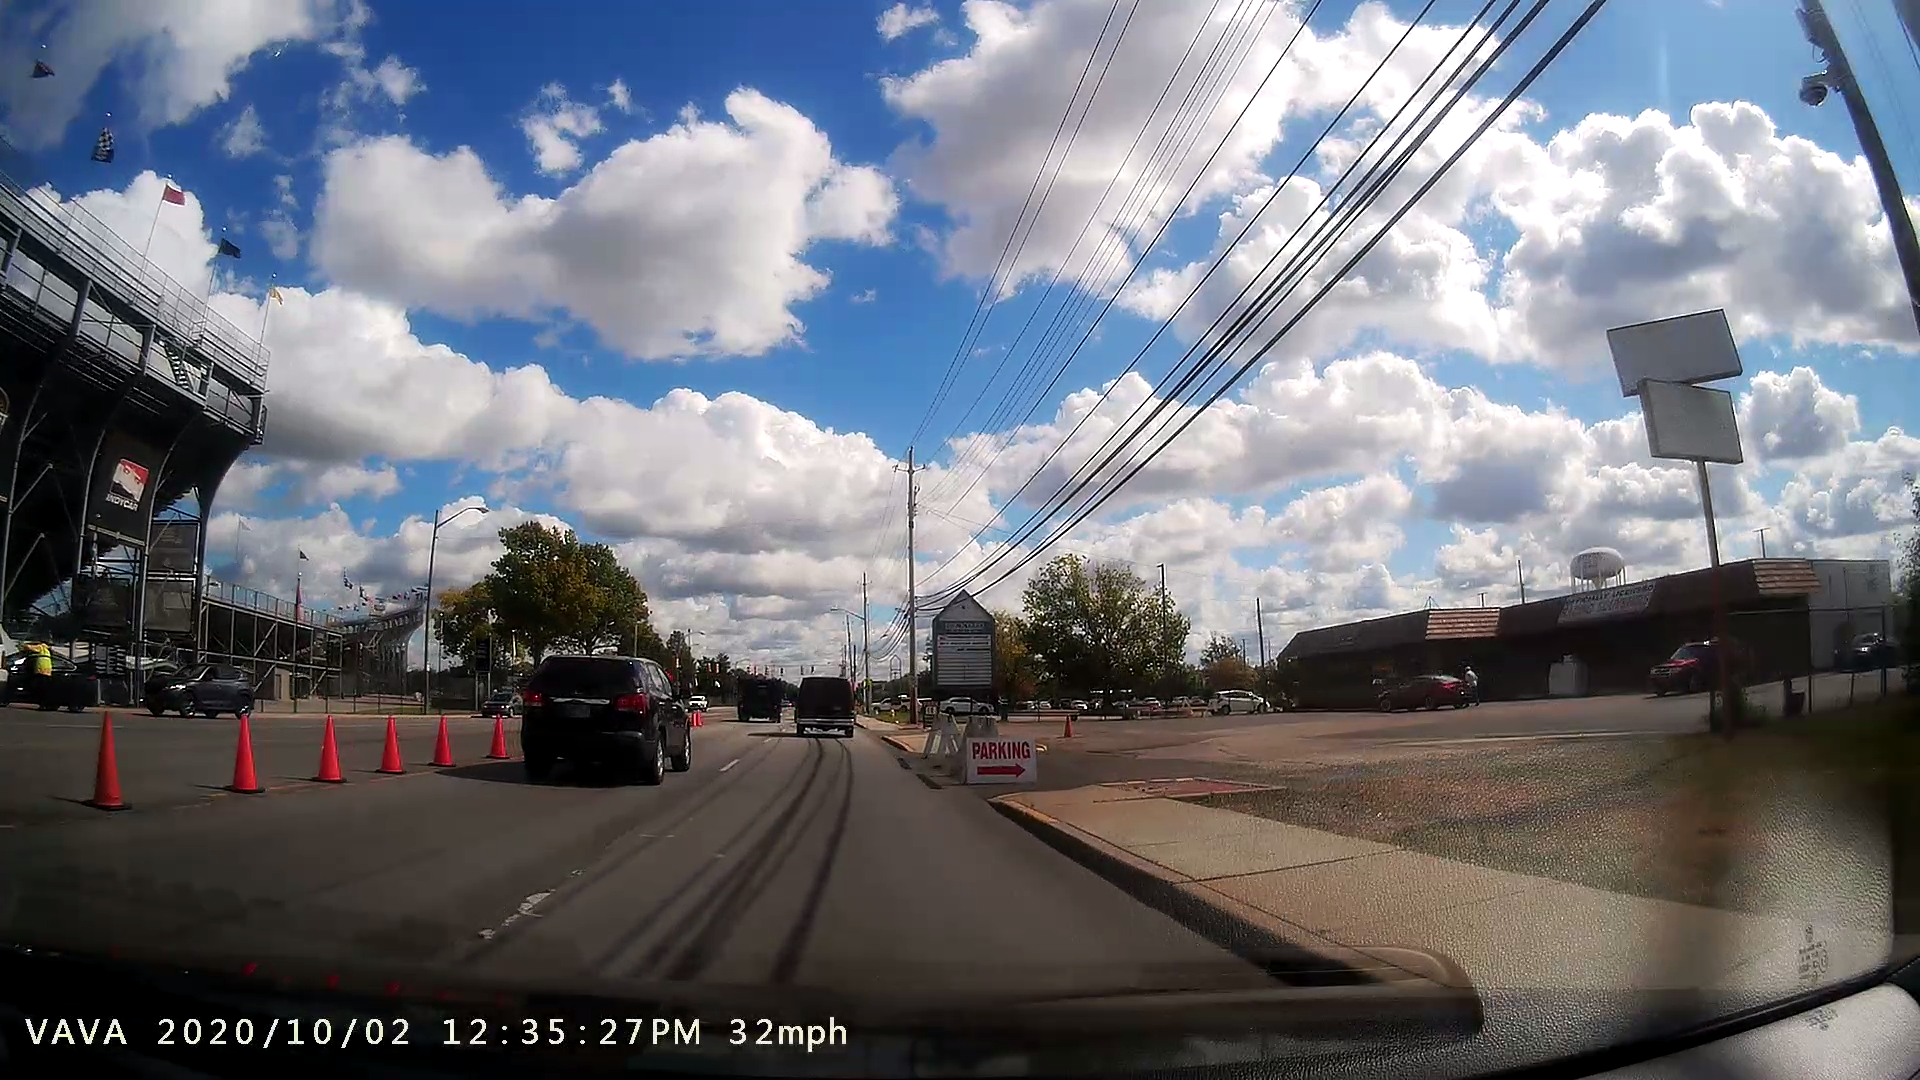const_cone: (83, 704, 145, 829), (222, 699, 276, 799), (305, 705, 357, 795), (421, 705, 462, 781), (369, 709, 411, 781), (477, 700, 520, 764)
